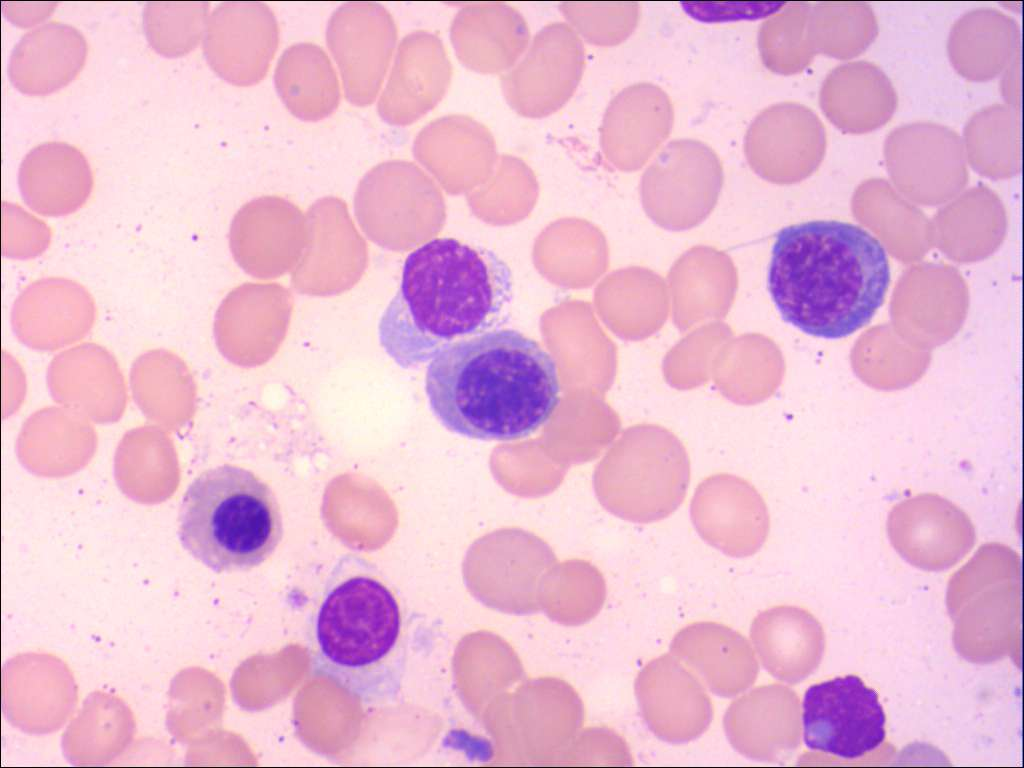23: (763, 216, 894, 343)
24: (421, 327, 564, 446), (173, 460, 286, 578)
x: (375, 234, 516, 373), (308, 571, 413, 675), (798, 671, 889, 763)
